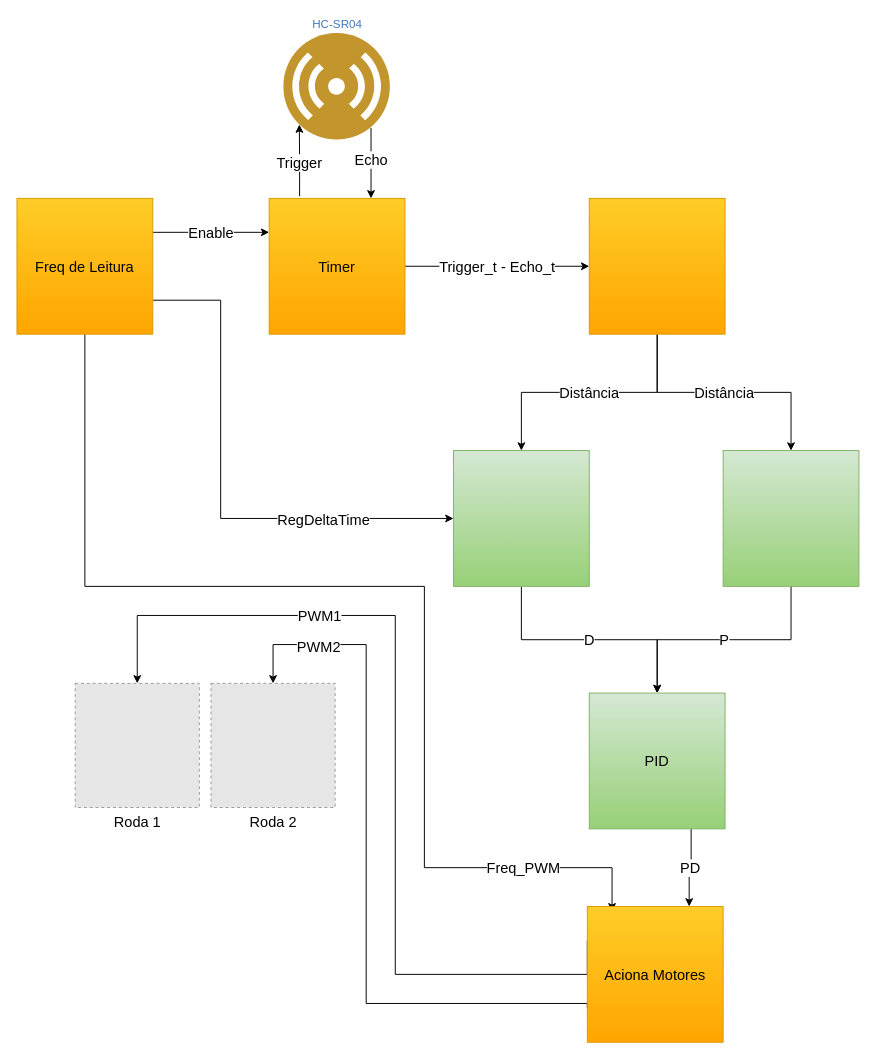
This 876x1059 diagram has some shape labels left out. Grey dashed boxes stand in for pictures. Each missing label, with the centre of its shape:
"Conversor Tempo Distancia" goes at [656,265].
"Derivador" goes at [521,518].
"Proporcional" goes at [790,518].
